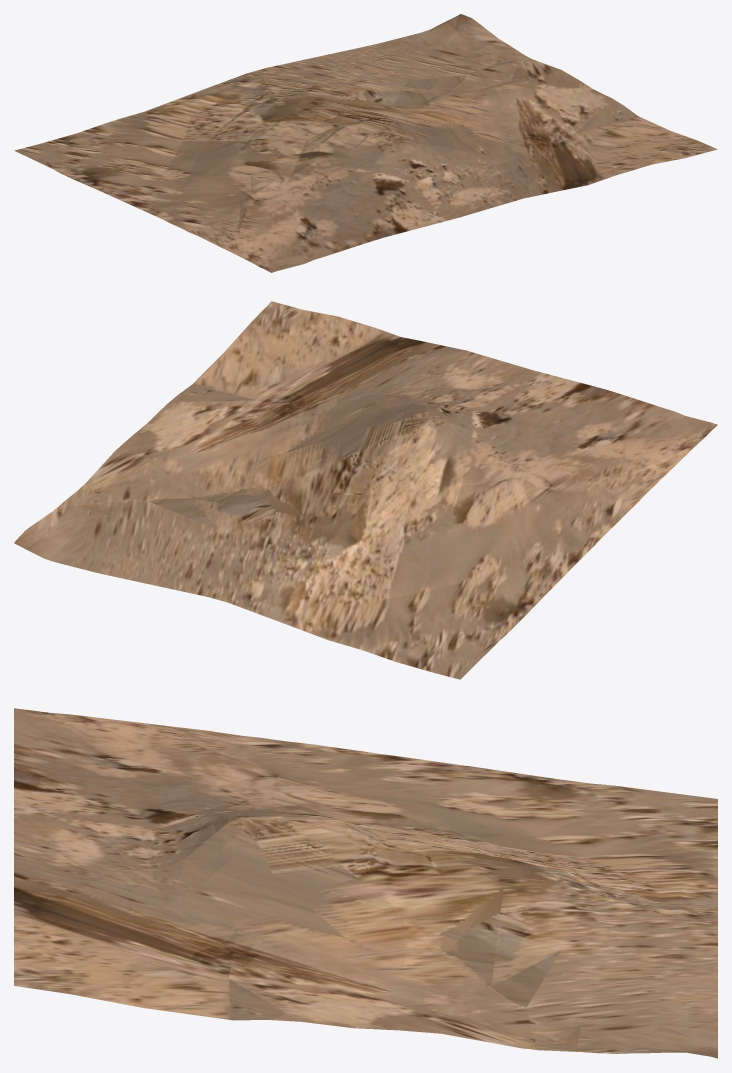
The picture shows the model from 3 angles, top to bottom: view 1: azimuth 30°, elevation 25°; view 2: azimuth 150°, elevation 25°; view 3: azimuth 270°, elevation 25°; orthographic projection. The views are drawn at different scales.
Size of the model in its own units: 2.09 by 0.3852 by 2.09.
2 materials, 2 textured.
